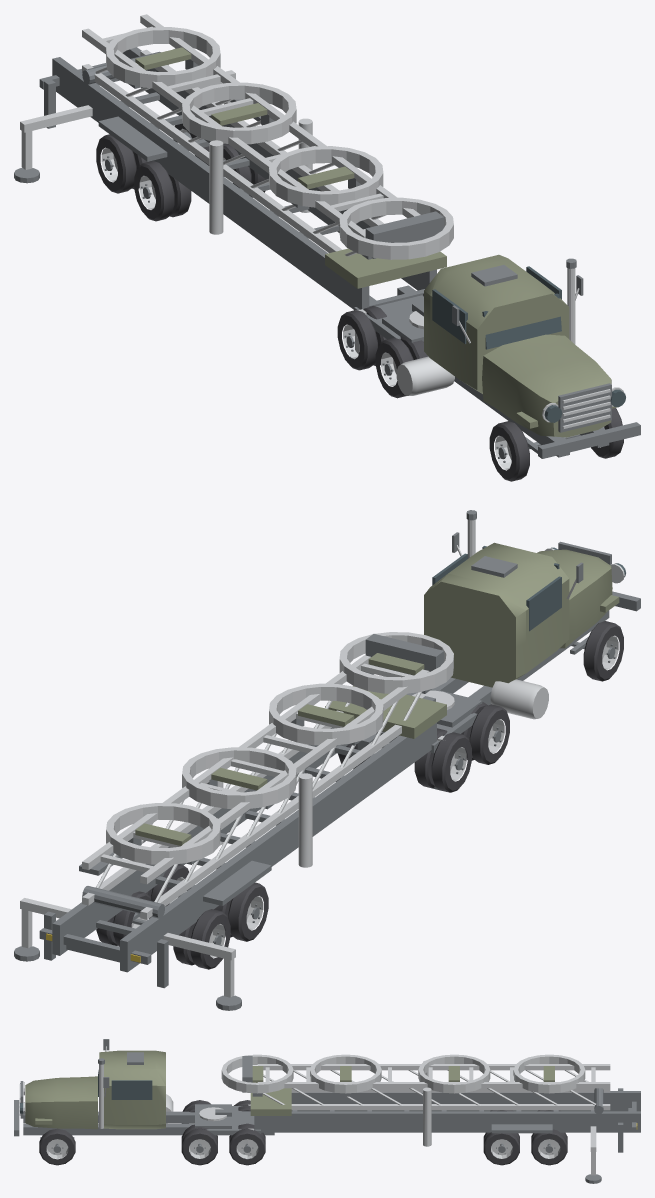
File: cold-war-missile-silo-and-command-bunker-transporter-e-3a510a99__15681.glb
The picture shows the model from 3 angles, top to bottom: view 1: azimuth 30°, elevation 25°; view 2: azimuth 150°, elevation 25°; view 3: azimuth 270°, elevation 25°; orthographic projection. The views are drawn at different scales.
Parts seen in each view (by area): view 1: transporter-erector-trailer, erector-beam (×3), wheel-steer-left, wheel-trailer-1-outer-left, wheel-drive-2-outer-left, wheel-trailer-2-outer-left, wheel-drive-1-outer-left; view 2: transporter-erector-trailer, erector-beam (×3), wheel-steer-left, wheel-drive-2-outer-left, wheel-drive-1-outer-left, wheel-trailer-1-outer-left, wheel-trailer-2-outer-left; view 3: transporter-erector-trailer, erector-beam (×3), wheel-steer-right (×2), wheel-drive-1-outer-right (×2), wheel-trailer-2-outer-right (×2), wheel-drive-2-outer-right (×2), wheel-trailer-1-outer-right (×2).
Part boxes in pixels (<box>): transporter-erector-trailer: <box>14,47,640,458</box>; erector-beam (×3): <box>82,14,453,259</box>; wheel-steer-left: <box>489,421,529,481</box>; wheel-trailer-1-outer-left: <box>134,161,174,221</box>; wheel-drive-2-outer-left: <box>337,310,377,370</box>; wheel-trailer-2-outer-left: <box>96,134,136,193</box>; wheel-drive-1-outer-left: <box>375,337,413,398</box>; transporter-erector-trailer: <box>14,510,640,1010</box>; erector-beam (×3): <box>82,632,453,919</box>; wheel-steer-left: <box>583,621,623,681</box>; wheel-drive-2-outer-left: <box>431,732,471,792</box>; wheel-drive-1-outer-left: <box>469,704,509,764</box>; wheel-trailer-1-outer-left: <box>228,882,268,941</box>; wheel-trailer-2-outer-left: <box>190,909,230,969</box>; transporter-erector-trailer: <box>14,1039,640,1183</box>; erector-beam (×3): <box>221,1054,610,1146</box>; wheel-steer-right (×2): <box>39,1128,75,1165</box>; wheel-drive-1-outer-right (×2): <box>181,1128,217,1165</box>; wheel-trailer-2-outer-right (×2): <box>531,1129,567,1165</box>; wheel-drive-2-outer-right (×2): <box>229,1128,265,1165</box>; wheel-trailer-1-outer-right (×2): <box>483,1132,519,1165</box>.
Size of the model in its own units: 4.78 by 3.42 by 18.48.
